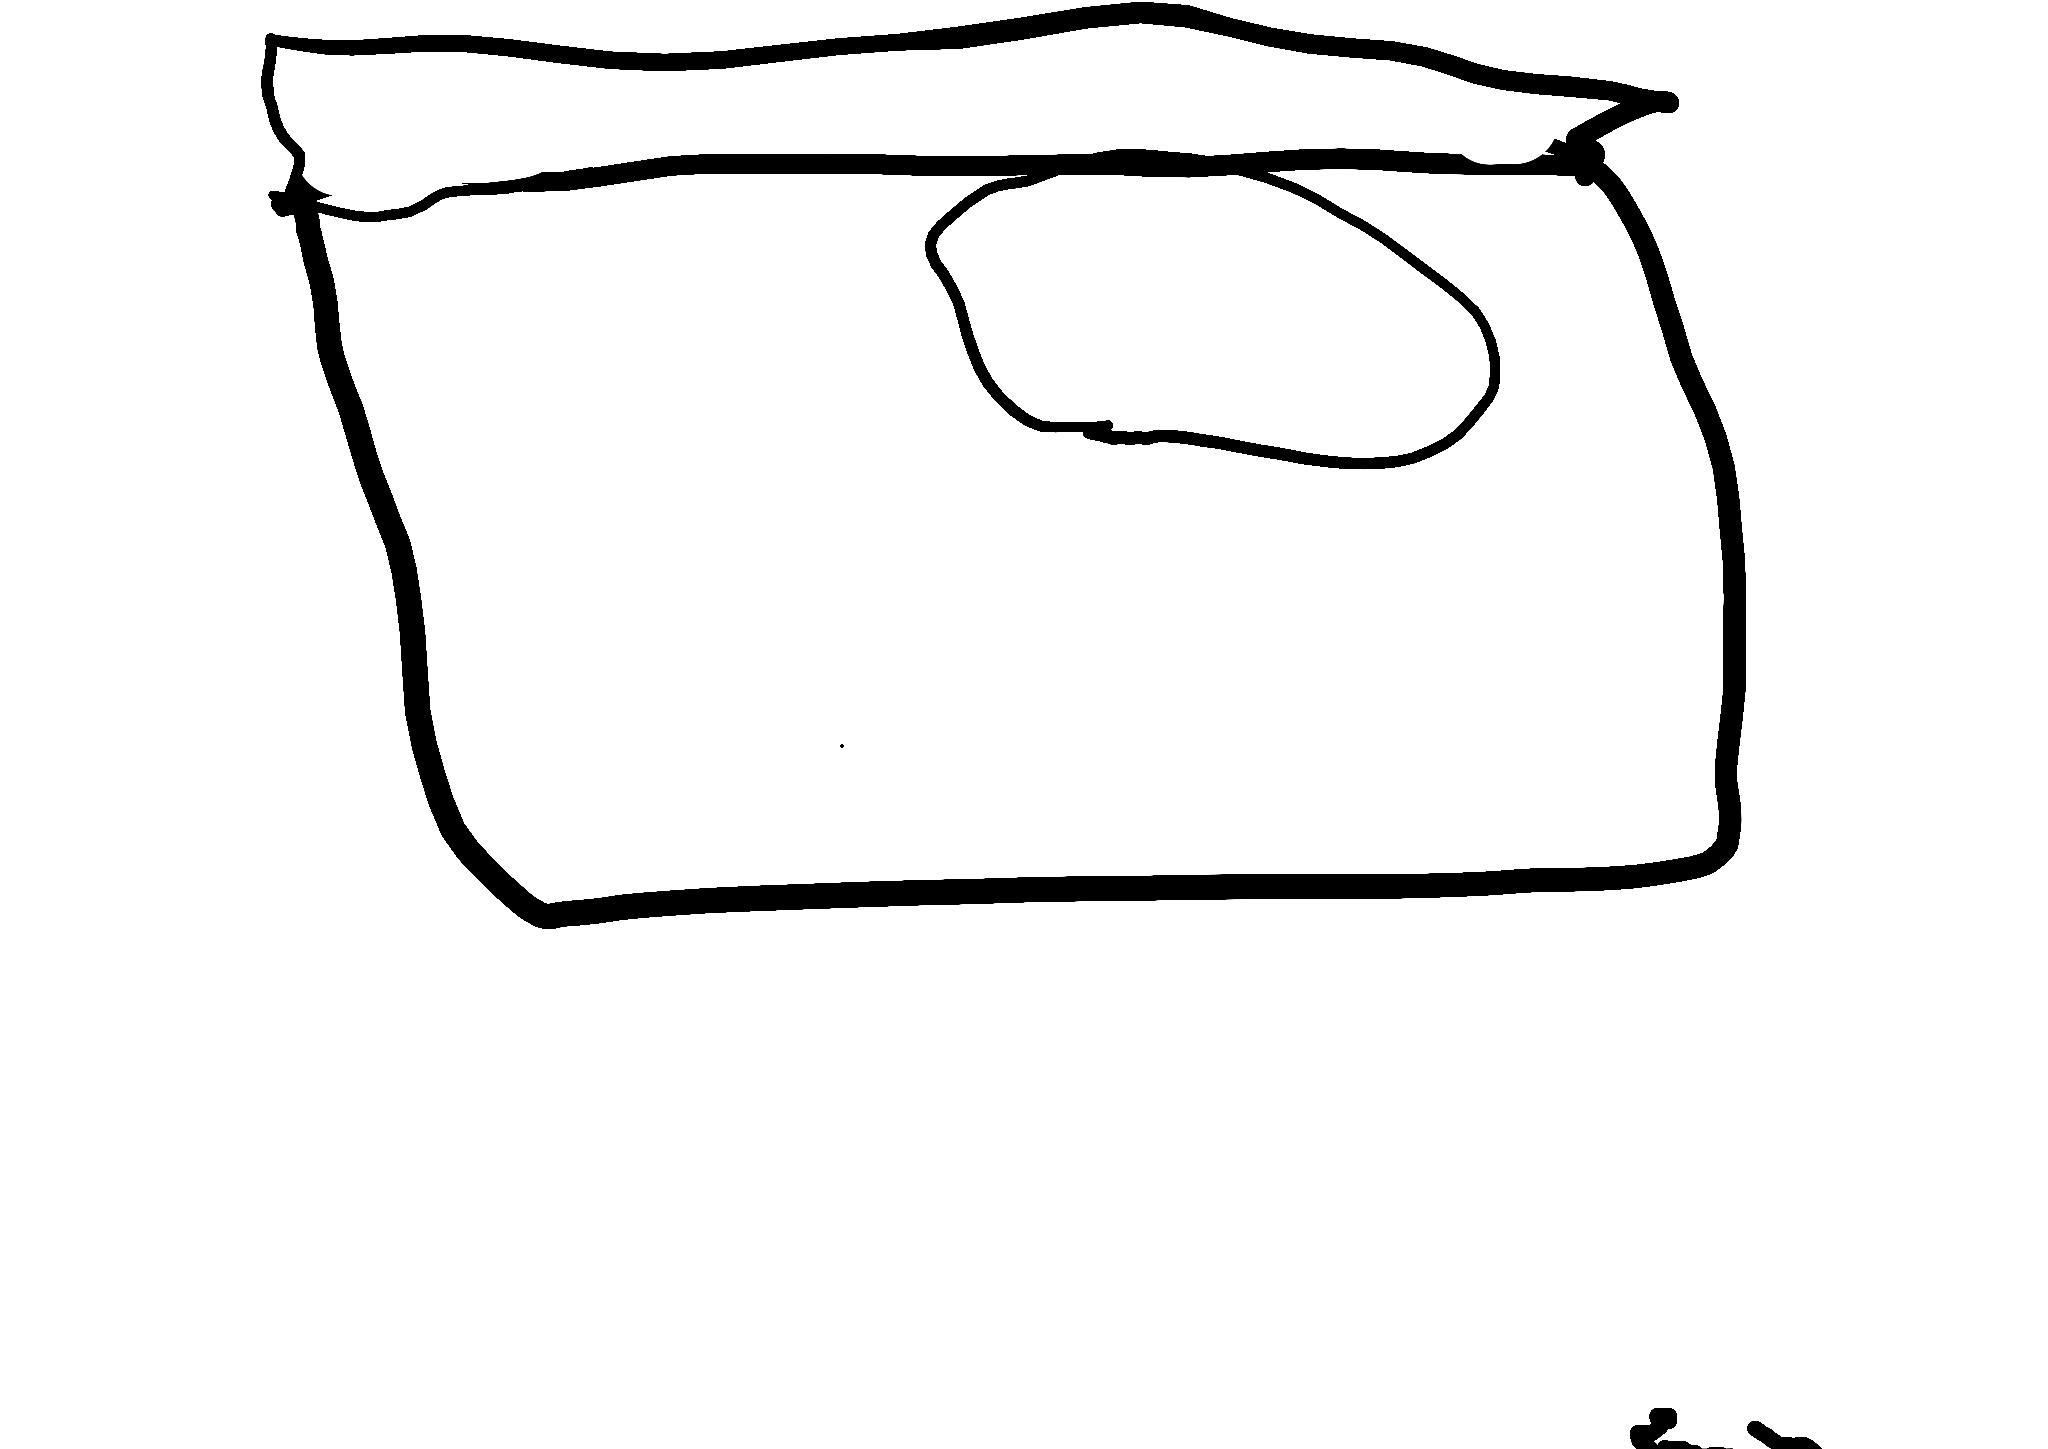house: (263, 2, 1747, 925)
roof: (256, 8, 1669, 216)
wall: (306, 162, 1738, 916)
window: (936, 176, 1490, 455)
